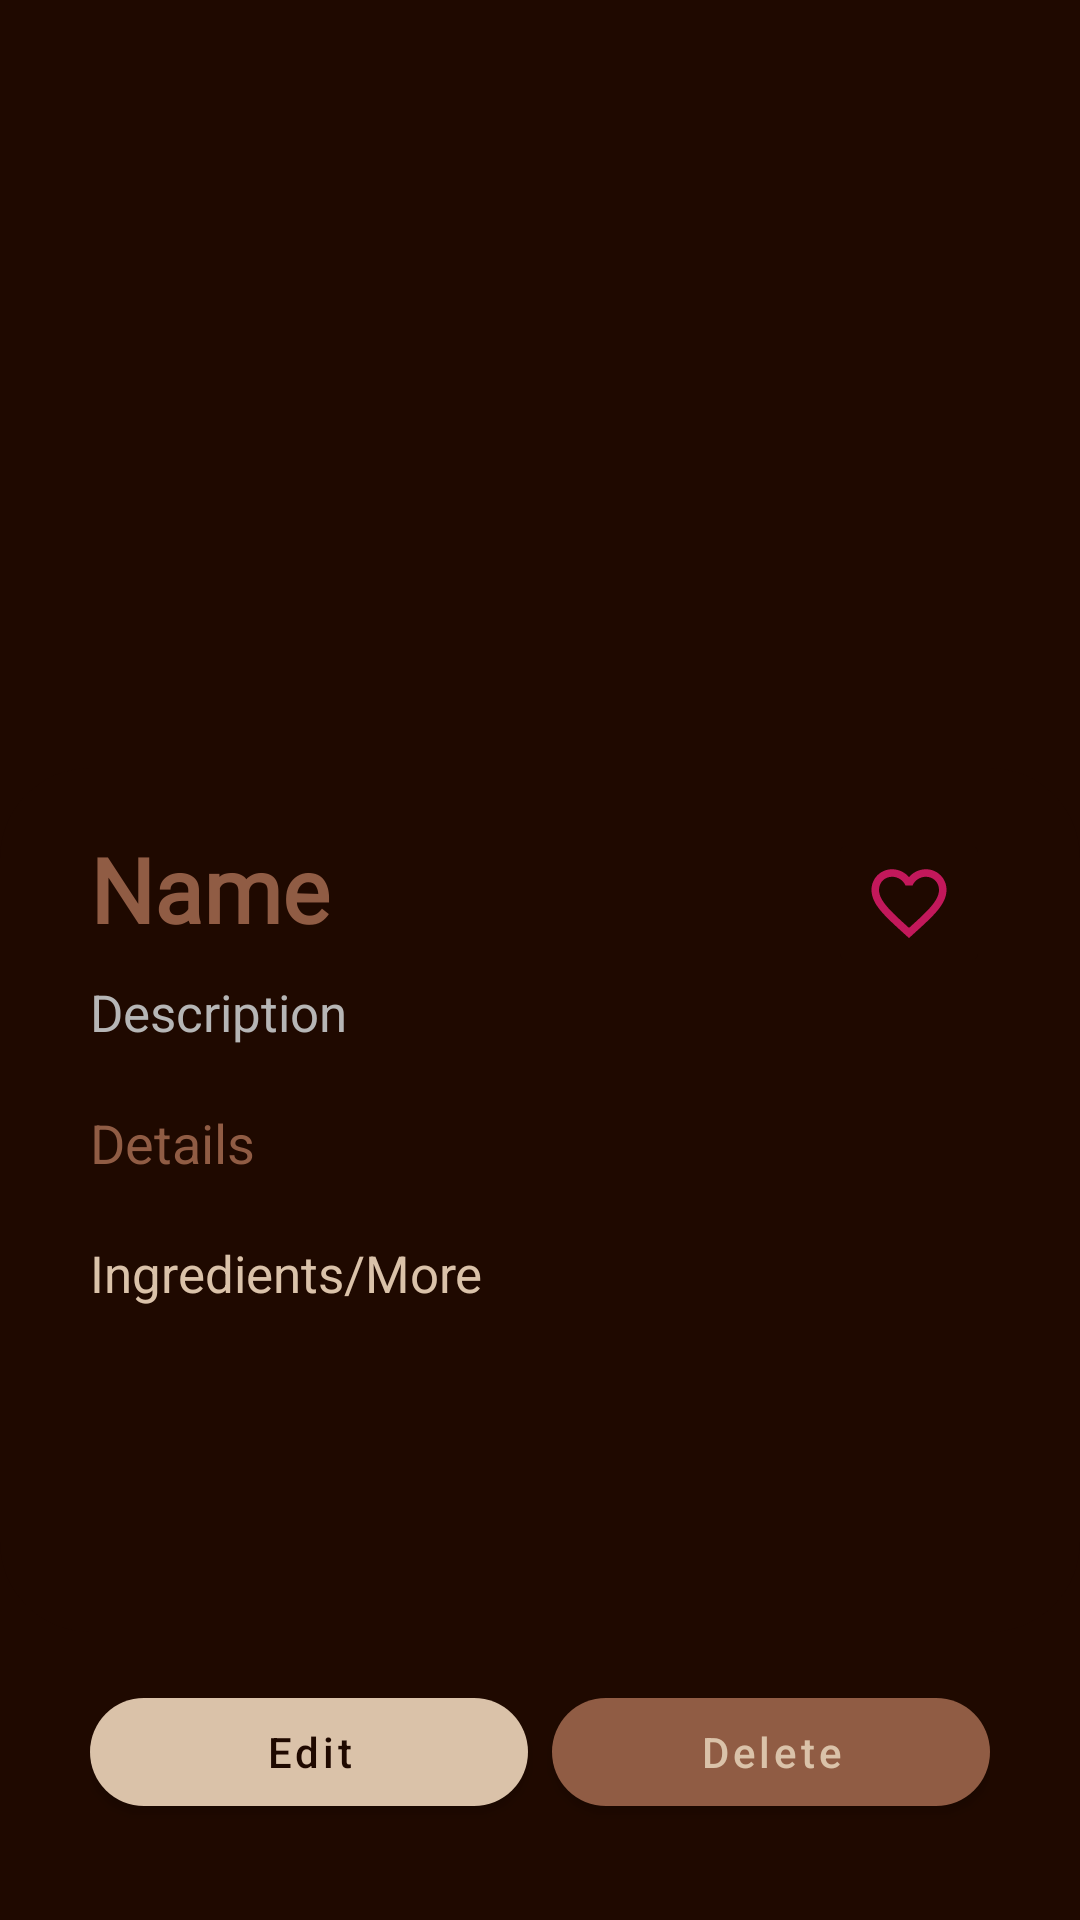

Icons on this 1080px×1920px Android screen, each with the point to tap as point (x, y):
favorite border: point (909, 903)
